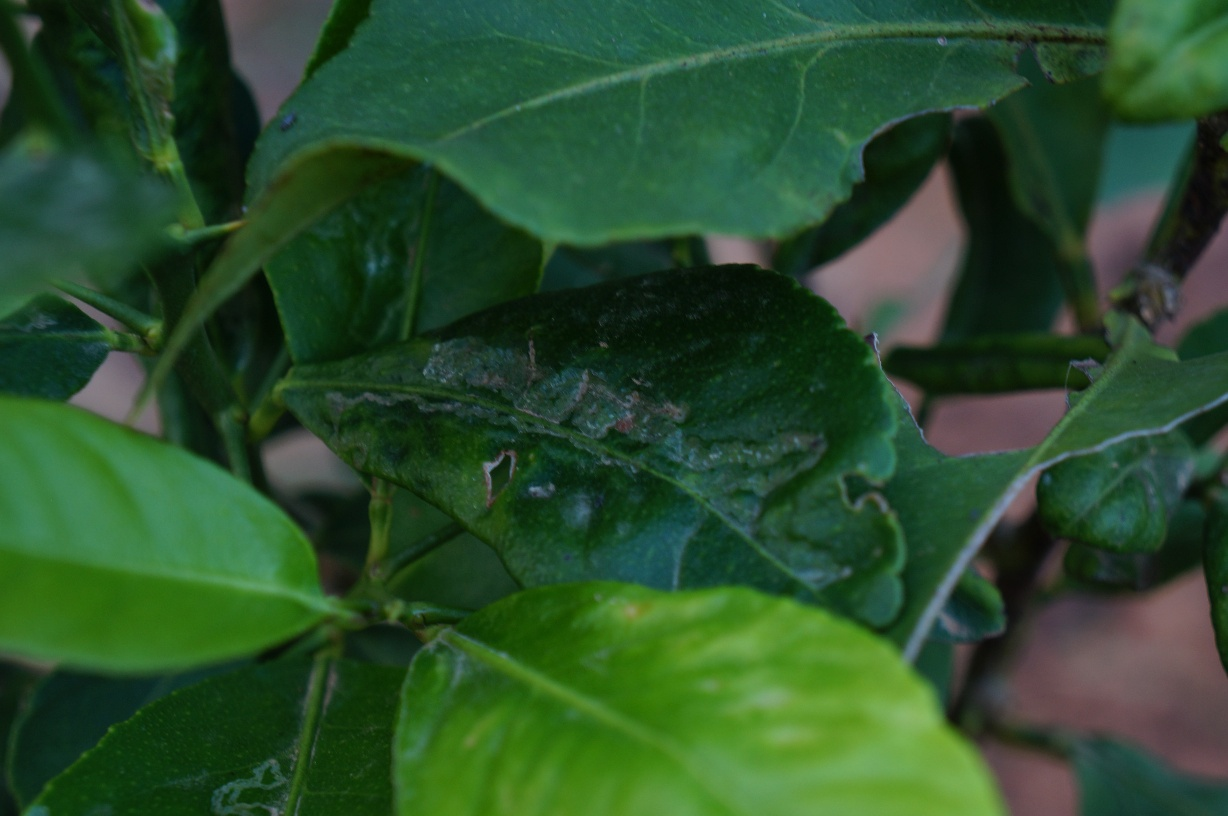damage: (413, 321, 796, 512)
